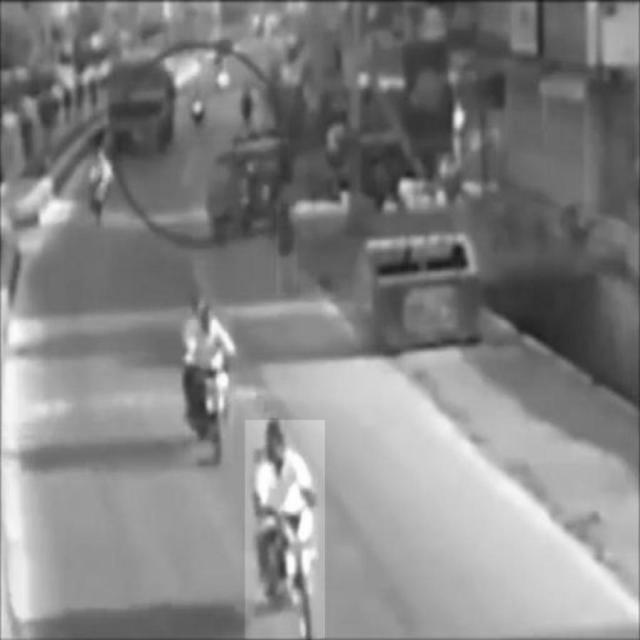person: (276, 207, 296, 295)
vehicle: (246, 420, 326, 638), (187, 306, 234, 463)
